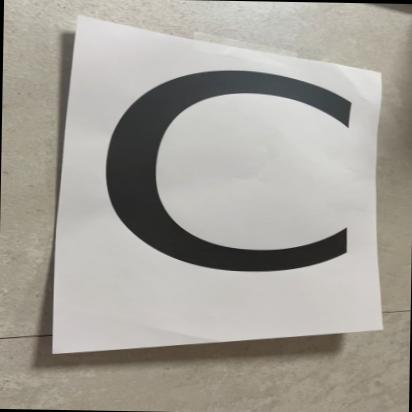seat: (48, 10, 406, 348)
